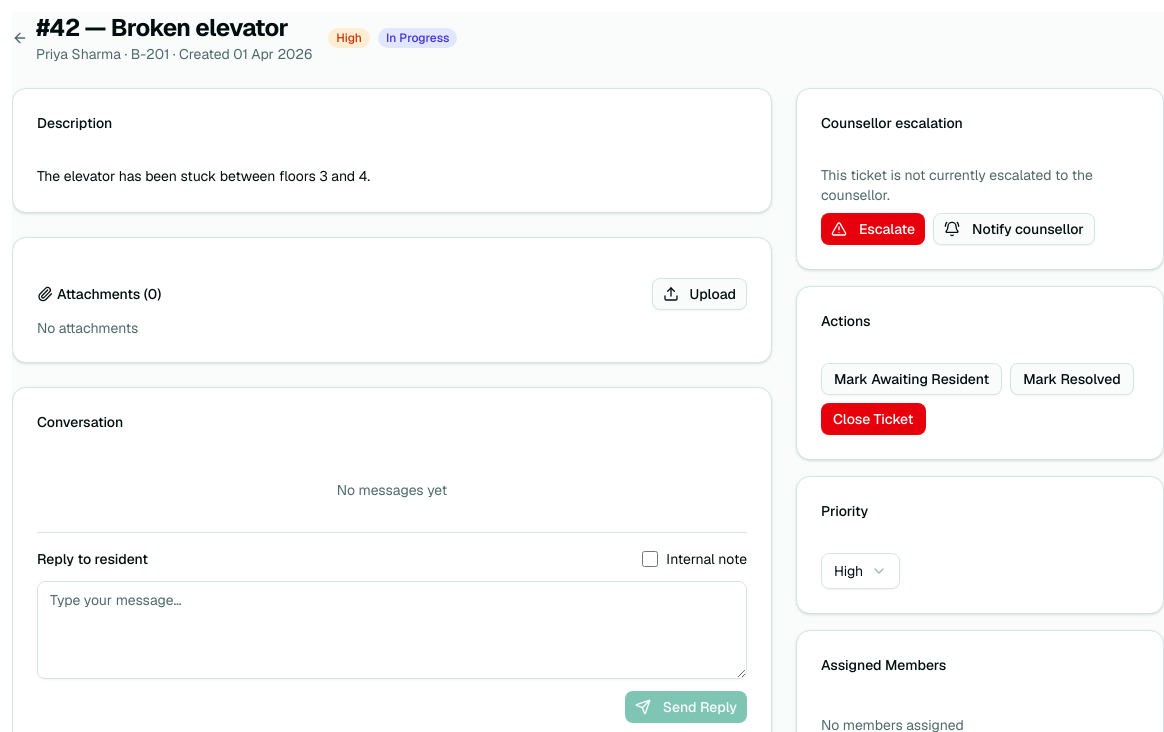
Scenario: AdminResidentTicketDetailPage › shows Sending… button text while reply mutation is pending
Type "pending reply" into the text box with placeholder "Type your message…" at (392, 630), box [37, 581, 747, 679]
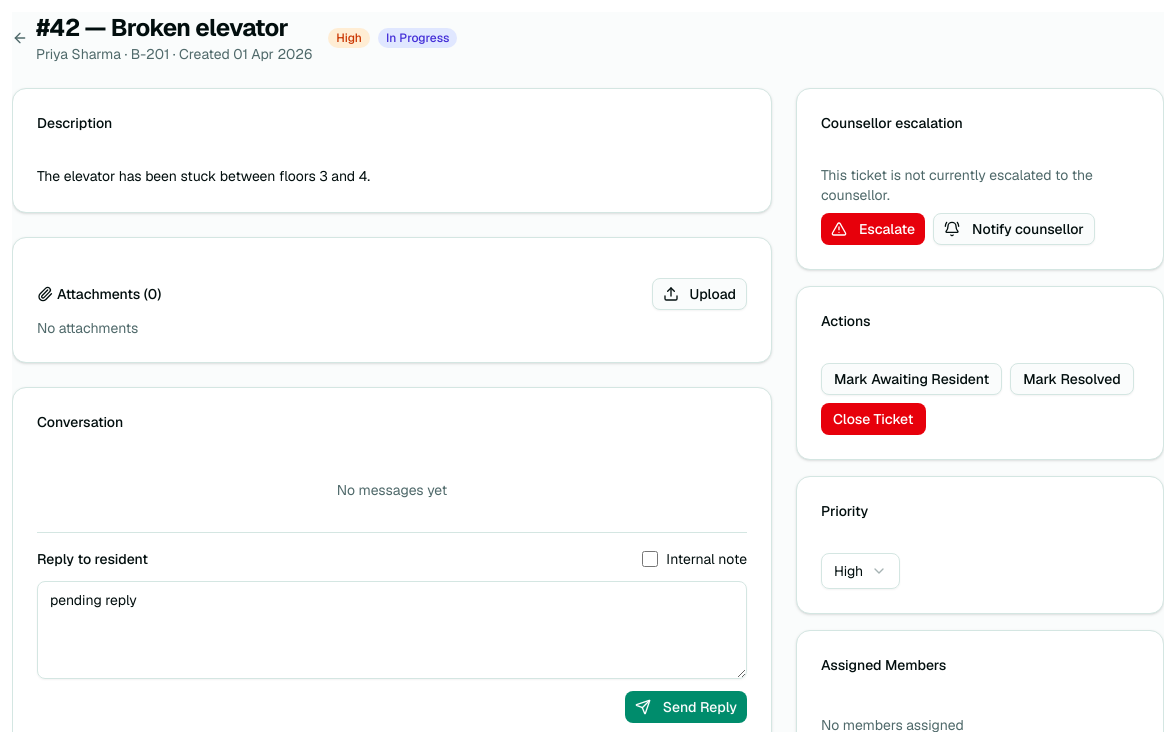
Click the button "Send Reply" at (686, 707), box [625, 691, 747, 723]
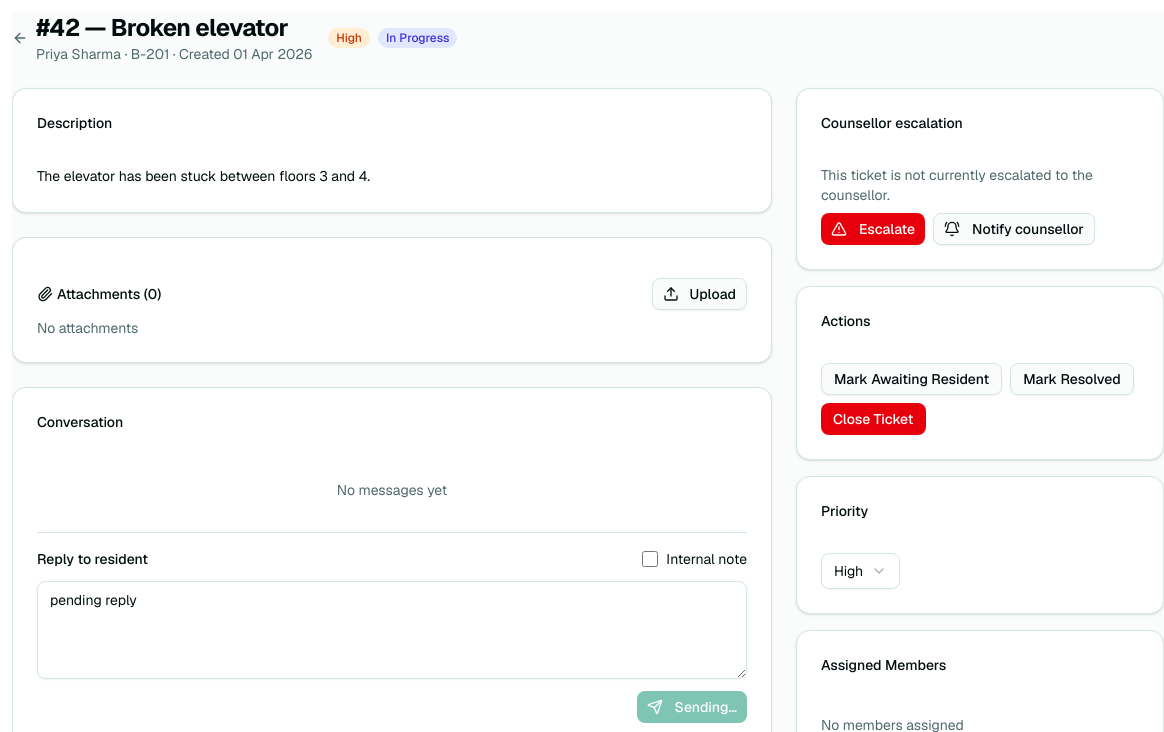
Expected: the button "Sending…" is shown, [637, 691, 747, 723]
